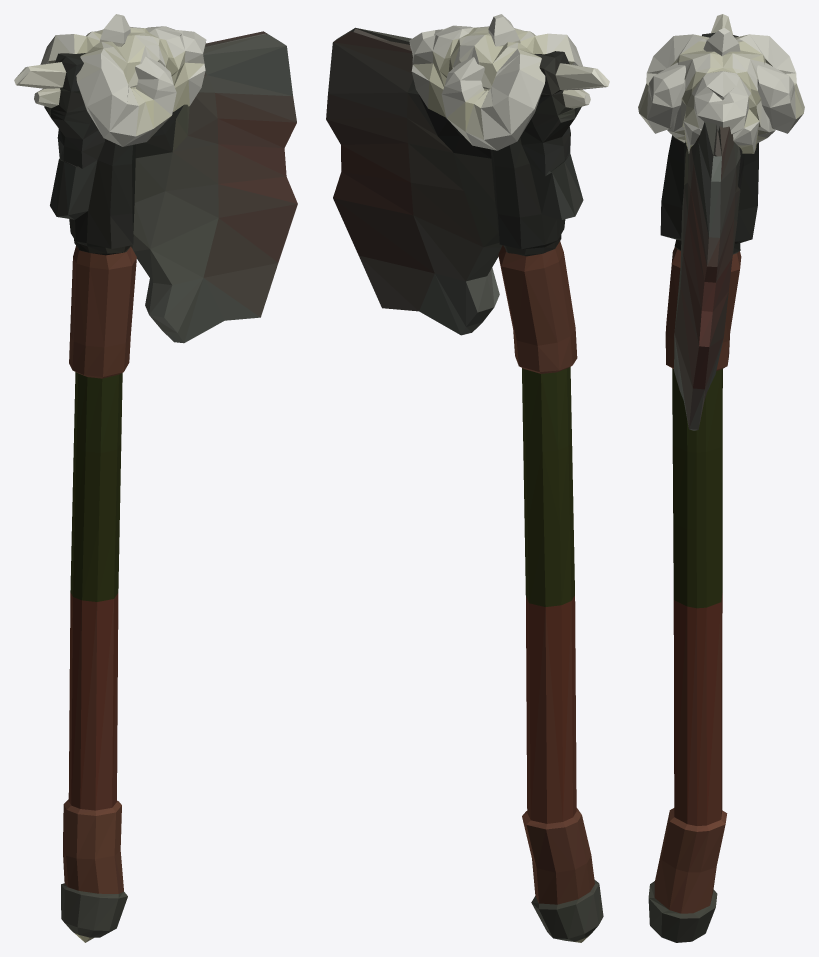
Rendered from weapon_2Haxe_green.fbx.
3 views of the same model, side by side, from view 1: azimuth 30°, elevation 25°; view 2: azimuth 150°, elevation 25°; view 3: azimuth 270°, elevation 25° (orthographic). The views are drawn at different scales.
Visible parts, largest first — view 1: weapon_2Haxe_green; view 2: weapon_2Haxe_green; view 3: weapon_2Haxe_green.
Boxes of the visible parts, bbox=[...] form: weapon_2Haxe_green: bbox=[14, 14, 297, 942]; weapon_2Haxe_green: bbox=[326, 14, 609, 942]; weapon_2Haxe_green: bbox=[638, 14, 804, 942].
Bounding box in the file's own units: 1.19 × 3.72 × 0.5996.
